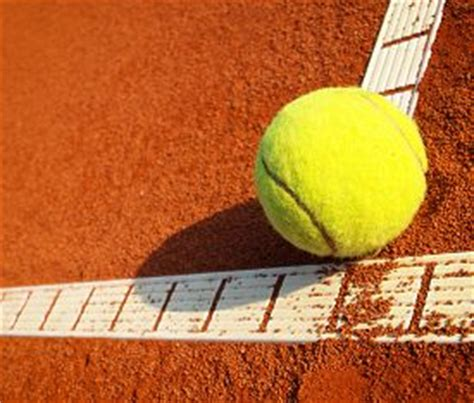tennis_ball: (256, 86, 427, 258)
